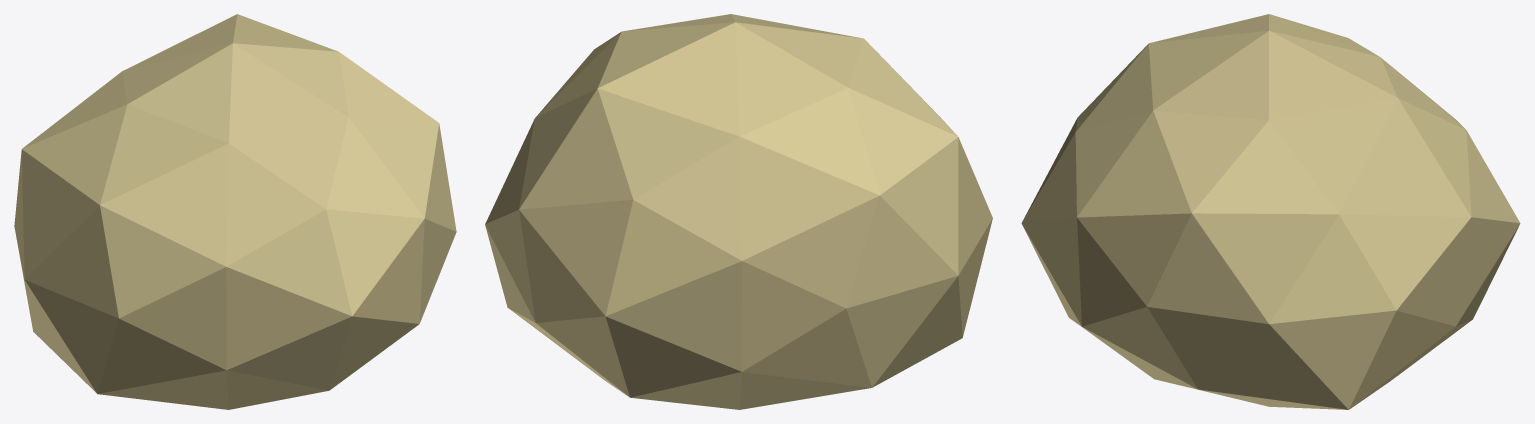
File: haystack.glb
The picture shows the model from 3 angles, left to right: view 1: azimuth 30°, elevation 25°; view 2: azimuth 150°, elevation 25°; view 3: azimuth 270°, elevation 25°; orthographic projection. The views are drawn at different scales.
Visible parts, largest first — view 1: haystack; view 2: haystack; view 3: haystack.
Part boxes in pixels (bbox=[...]): haystack: bbox=[14, 14, 456, 409]; haystack: bbox=[485, 14, 992, 409]; haystack: bbox=[1021, 14, 1520, 409].
Size of the model in its own units: 1.93 by 1.39 by 1.98.
